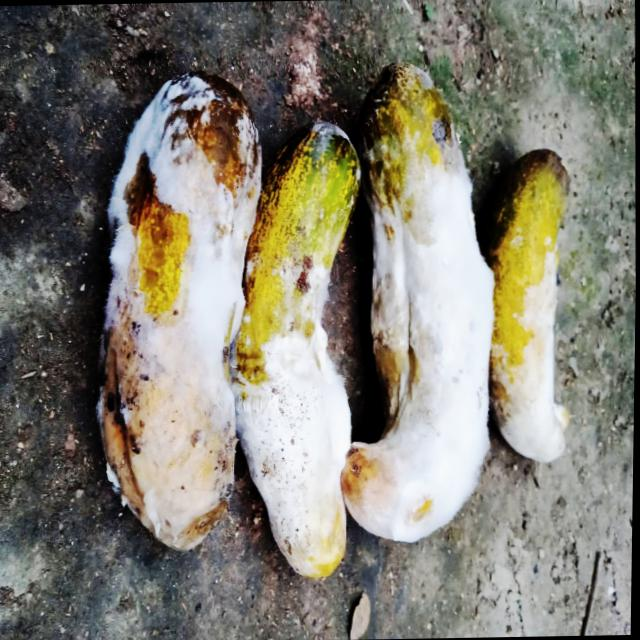Pythium-Fruit-Rot: (90, 74, 268, 541), (361, 160, 499, 545), (227, 264, 357, 564), (495, 245, 569, 464)
